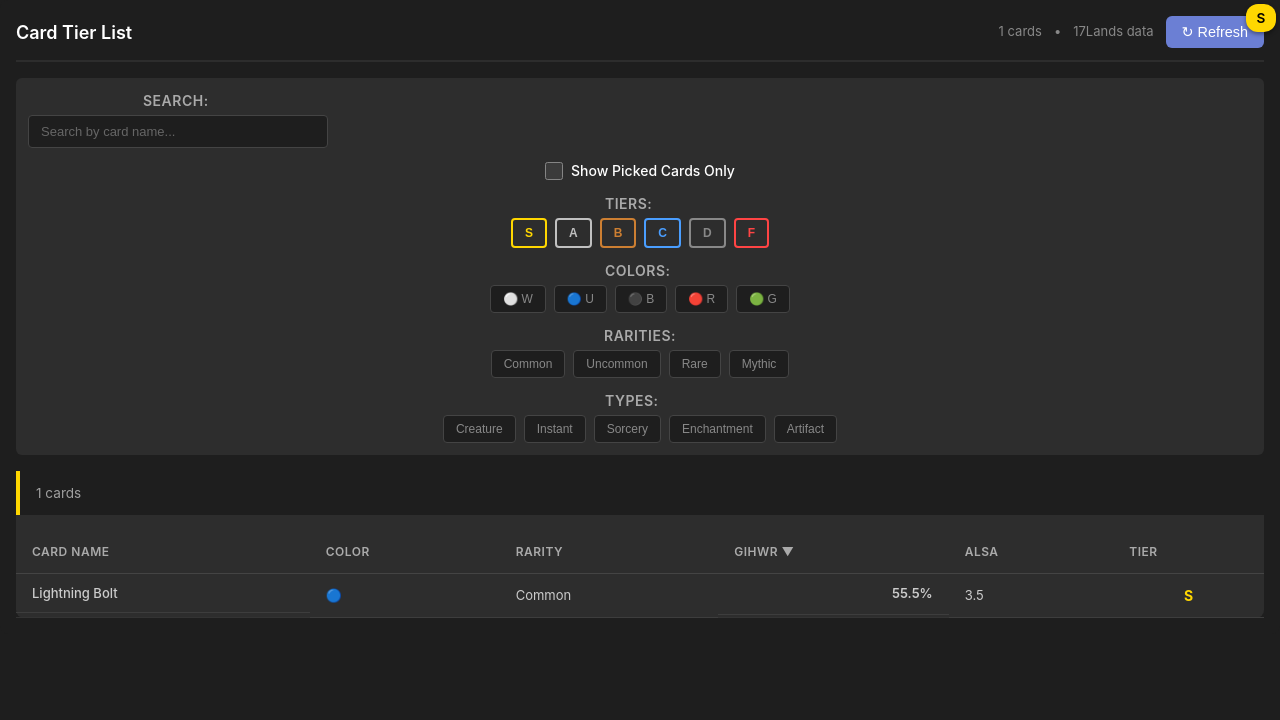
Test: TierList Component › Search Functionality › should show no results when search matches nothing
The width and height of the screenshot is (1280, 720).
Expected: the text "Lightning Bolt" is shown, 16,576 -> 310,613
Type "nonexistent" into the field with placeholder "Search by card name...". click: (178, 132)
box: 28,115 -> 328,148
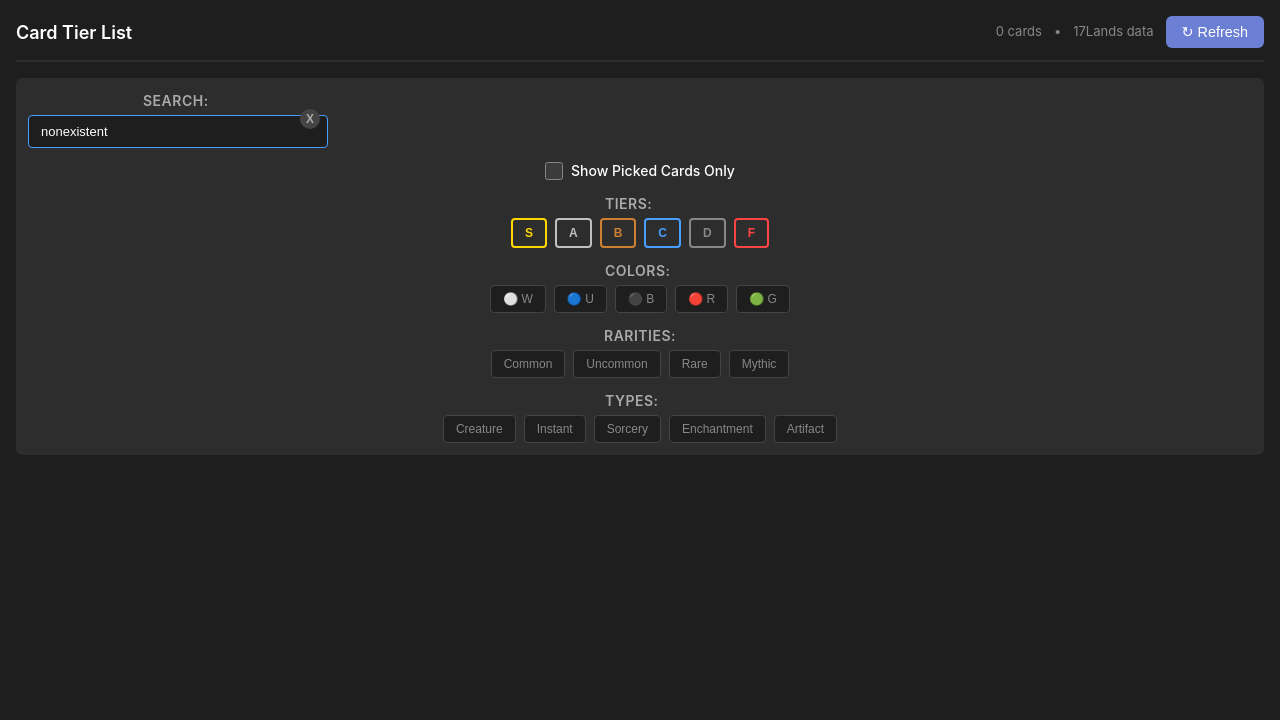
Result: the text "Lightning Bolt" is gone
